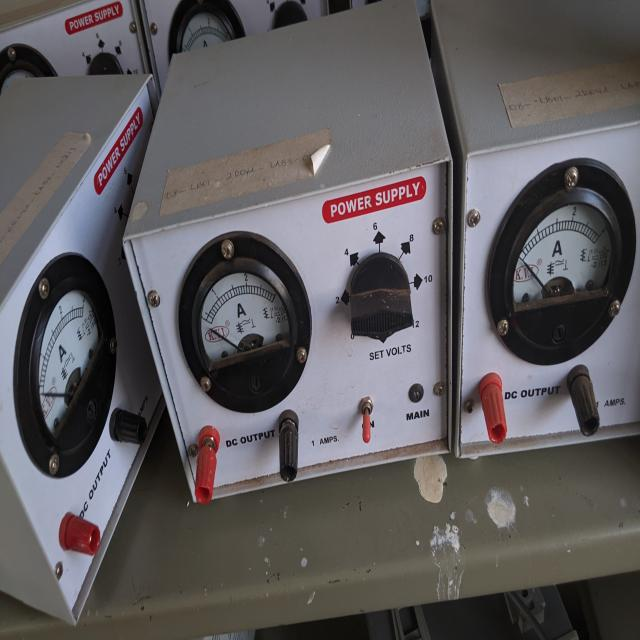Analog DC Power Supply: (127, 159, 456, 531)
